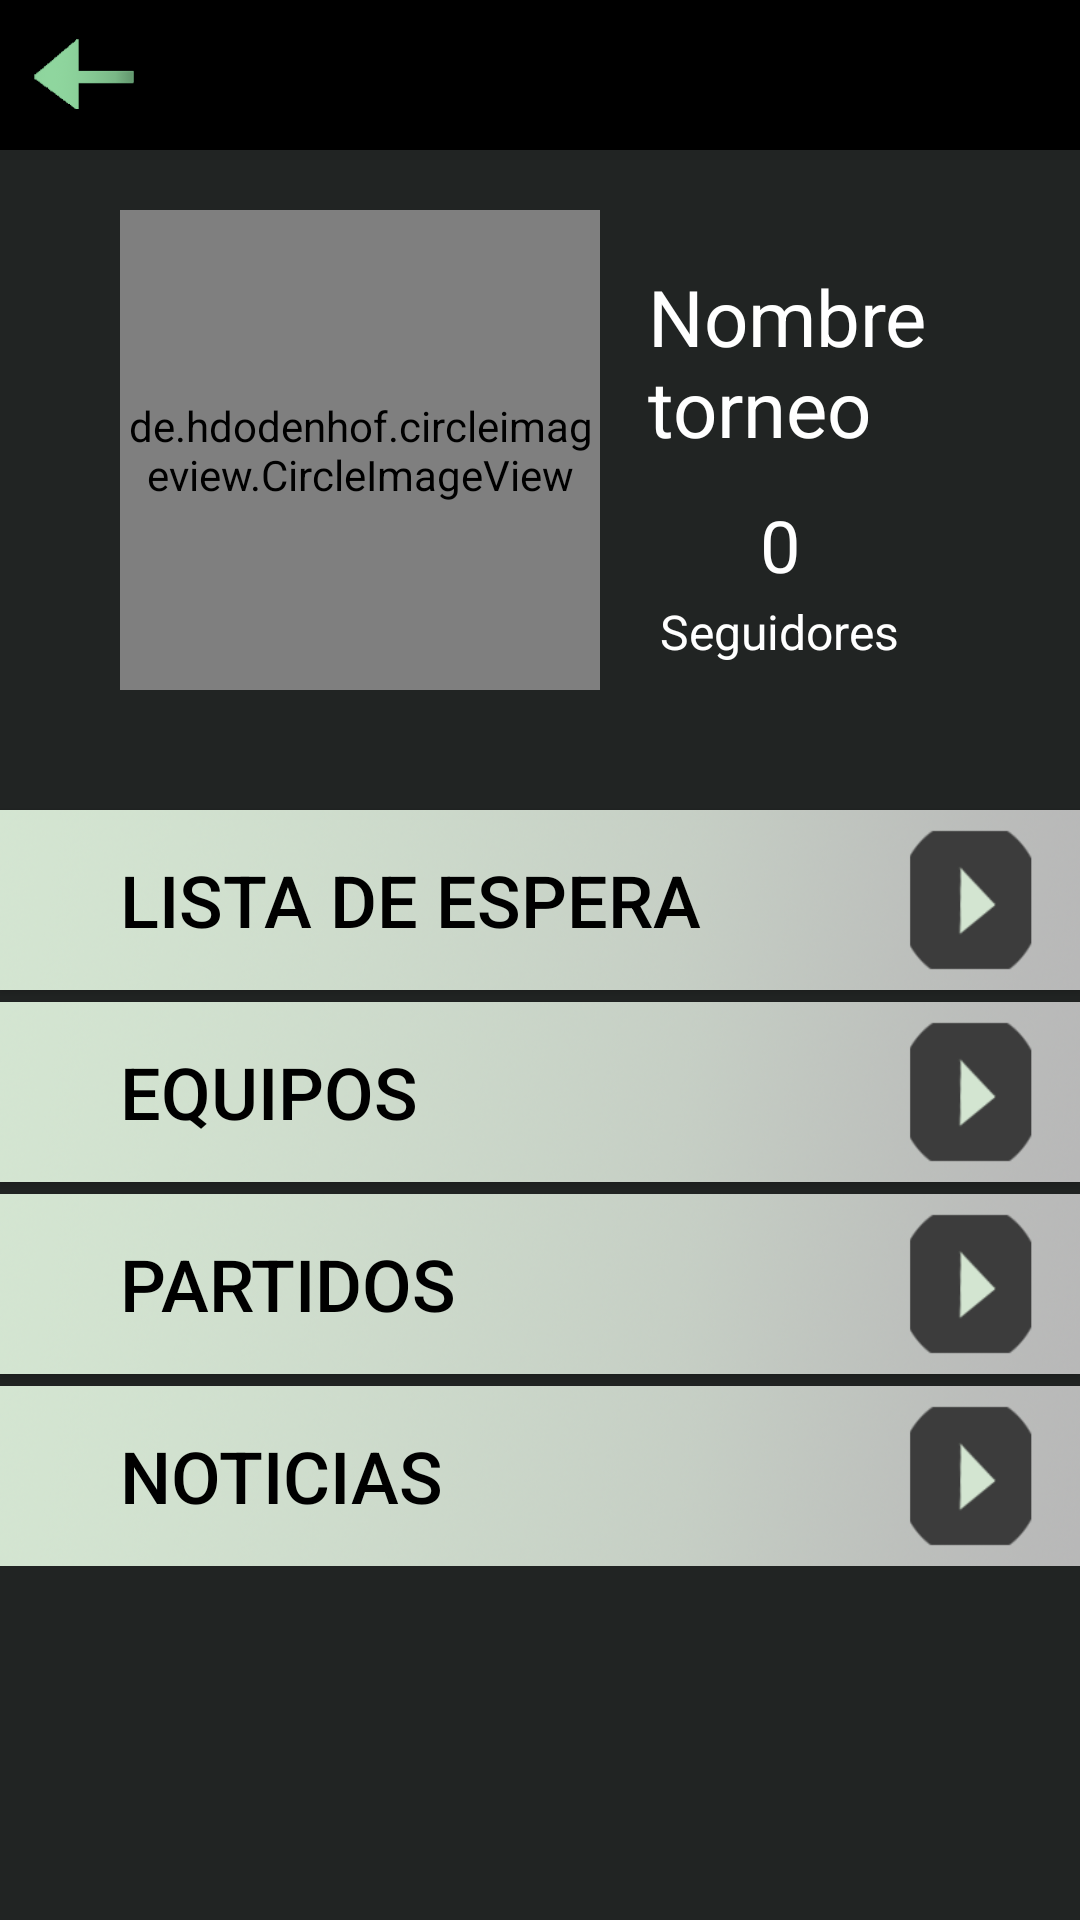

Locate icon controls on the screen. Image size 1080w x 1920h, boxes as (x1, y1, x2, y2).
flechita volver: (34, 39, 134, 109)
